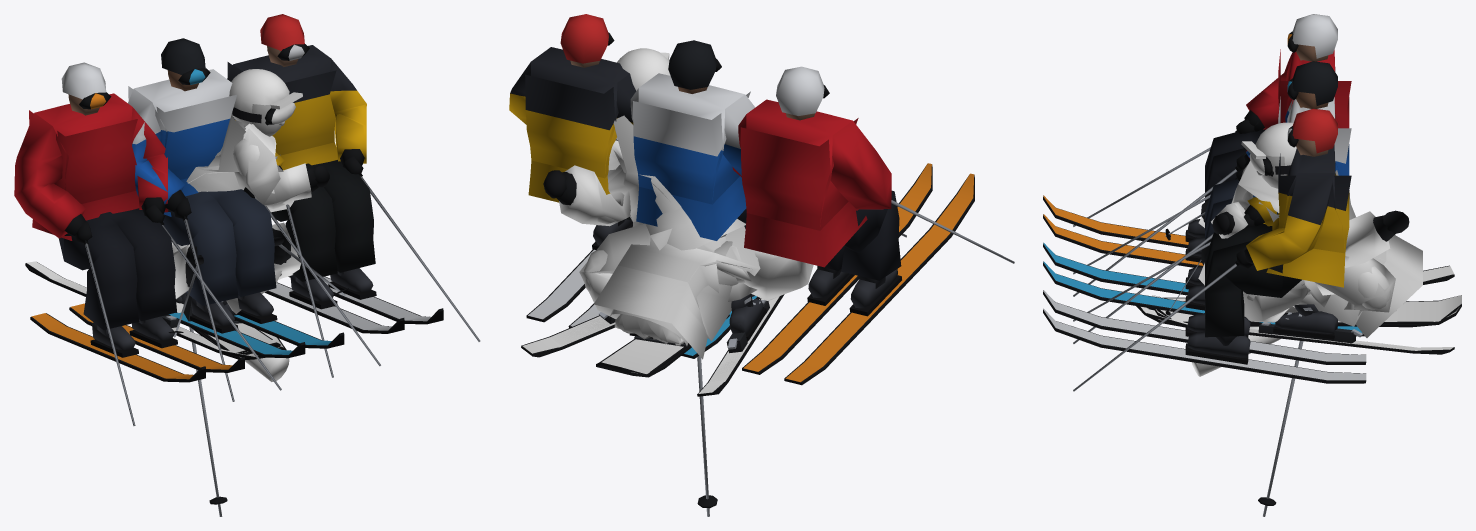
The model's file is skiers.glb.
The picture shows the model from 3 angles, left to right: view 1: azimuth 30°, elevation 25°; view 2: azimuth 150°, elevation 25°; view 3: azimuth 270°, elevation 25°; orthographic projection. The views are drawn at different scales.
Visible parts, largest first — view 1: riders, board_lo, board, skier_lo, skier, hand; view 2: riders, skier_lo, board_lo, skier, board, hand; view 3: riders, board_lo, skier_lo, board, skier, hand.
Boxes of the visible parts, x1,y1,x2,y2 form: riders: [14, 14, 480, 426]; board_lo: [176, 113, 328, 352]; board: [177, 69, 329, 354]; skier_lo: [26, 222, 300, 357]; skier: [25, 229, 348, 359]; hand: [176, 292, 289, 516]; riders: [509, 14, 1014, 385]; skier_lo: [521, 226, 813, 394]; board_lo: [544, 115, 745, 374]; skier: [521, 234, 780, 396]; board: [543, 48, 754, 377]; hand: [697, 355, 717, 516]; riders: [1043, 14, 1366, 391]; board_lo: [1152, 160, 1461, 324]; skier_lo: [1139, 203, 1454, 353]; board: [1154, 122, 1461, 327]; skier: [1136, 199, 1454, 354]; hand: [1191, 313, 1303, 516].
Bounding box in the file's own units: 1.96 × 2.48 × 2.1.
